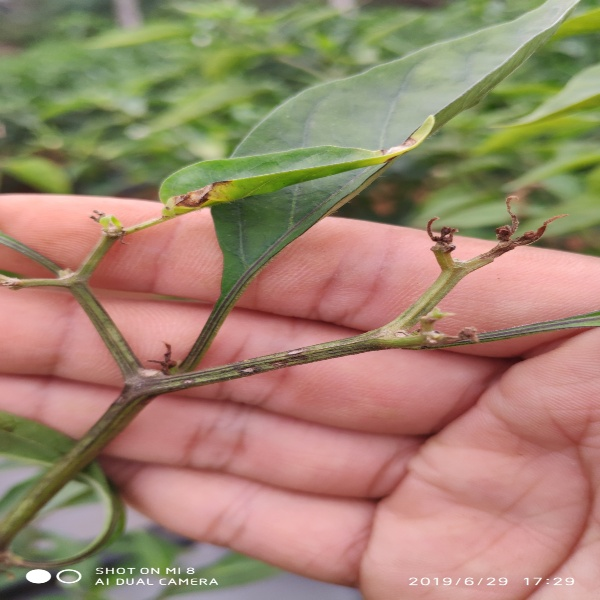blight: (5, 394, 158, 561), (163, 327, 385, 392), (418, 194, 569, 276), (93, 361, 184, 437), (76, 292, 148, 377)
